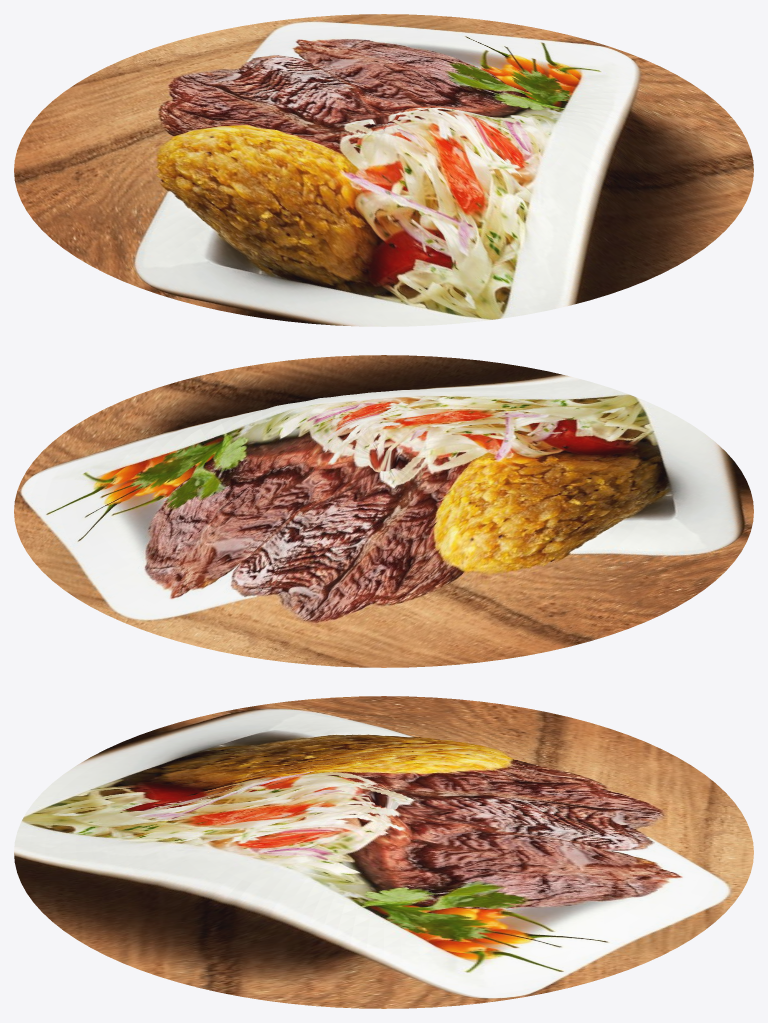
File: plato2-prototipo.glb
3 renders of one model, top to bottom at view 1: azimuth 30°, elevation 25°; view 2: azimuth 150°, elevation 25°; view 3: azimuth 270°, elevation 25°, orthographic.
Bounding box in the file's own units: 0.2744 × 0.0284 × 0.2744.
1 material, 1 textured.
